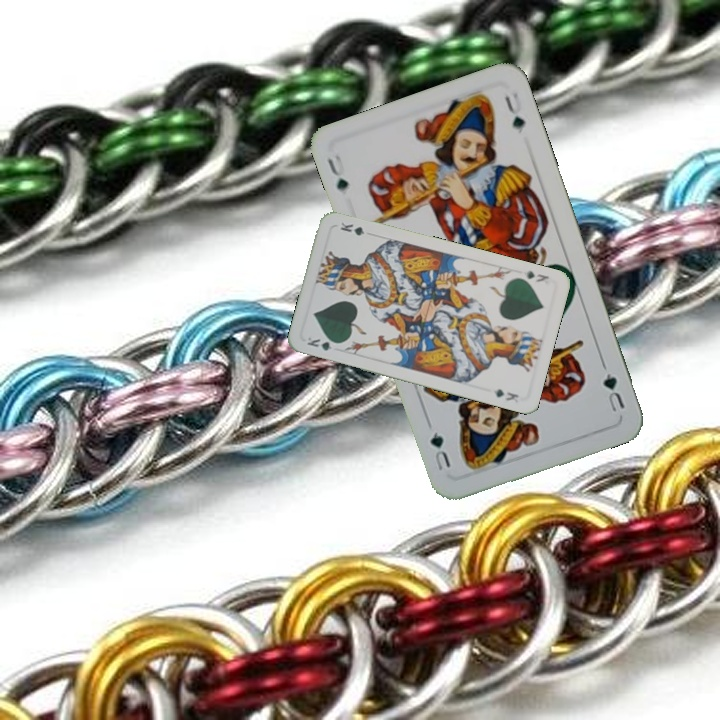GK: (303, 333, 343, 353), (519, 267, 552, 285)
GU: (598, 360, 628, 415), (323, 150, 351, 194)
